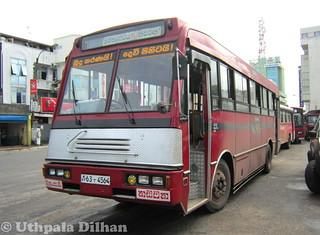motorbike: (45, 17, 276, 216)
